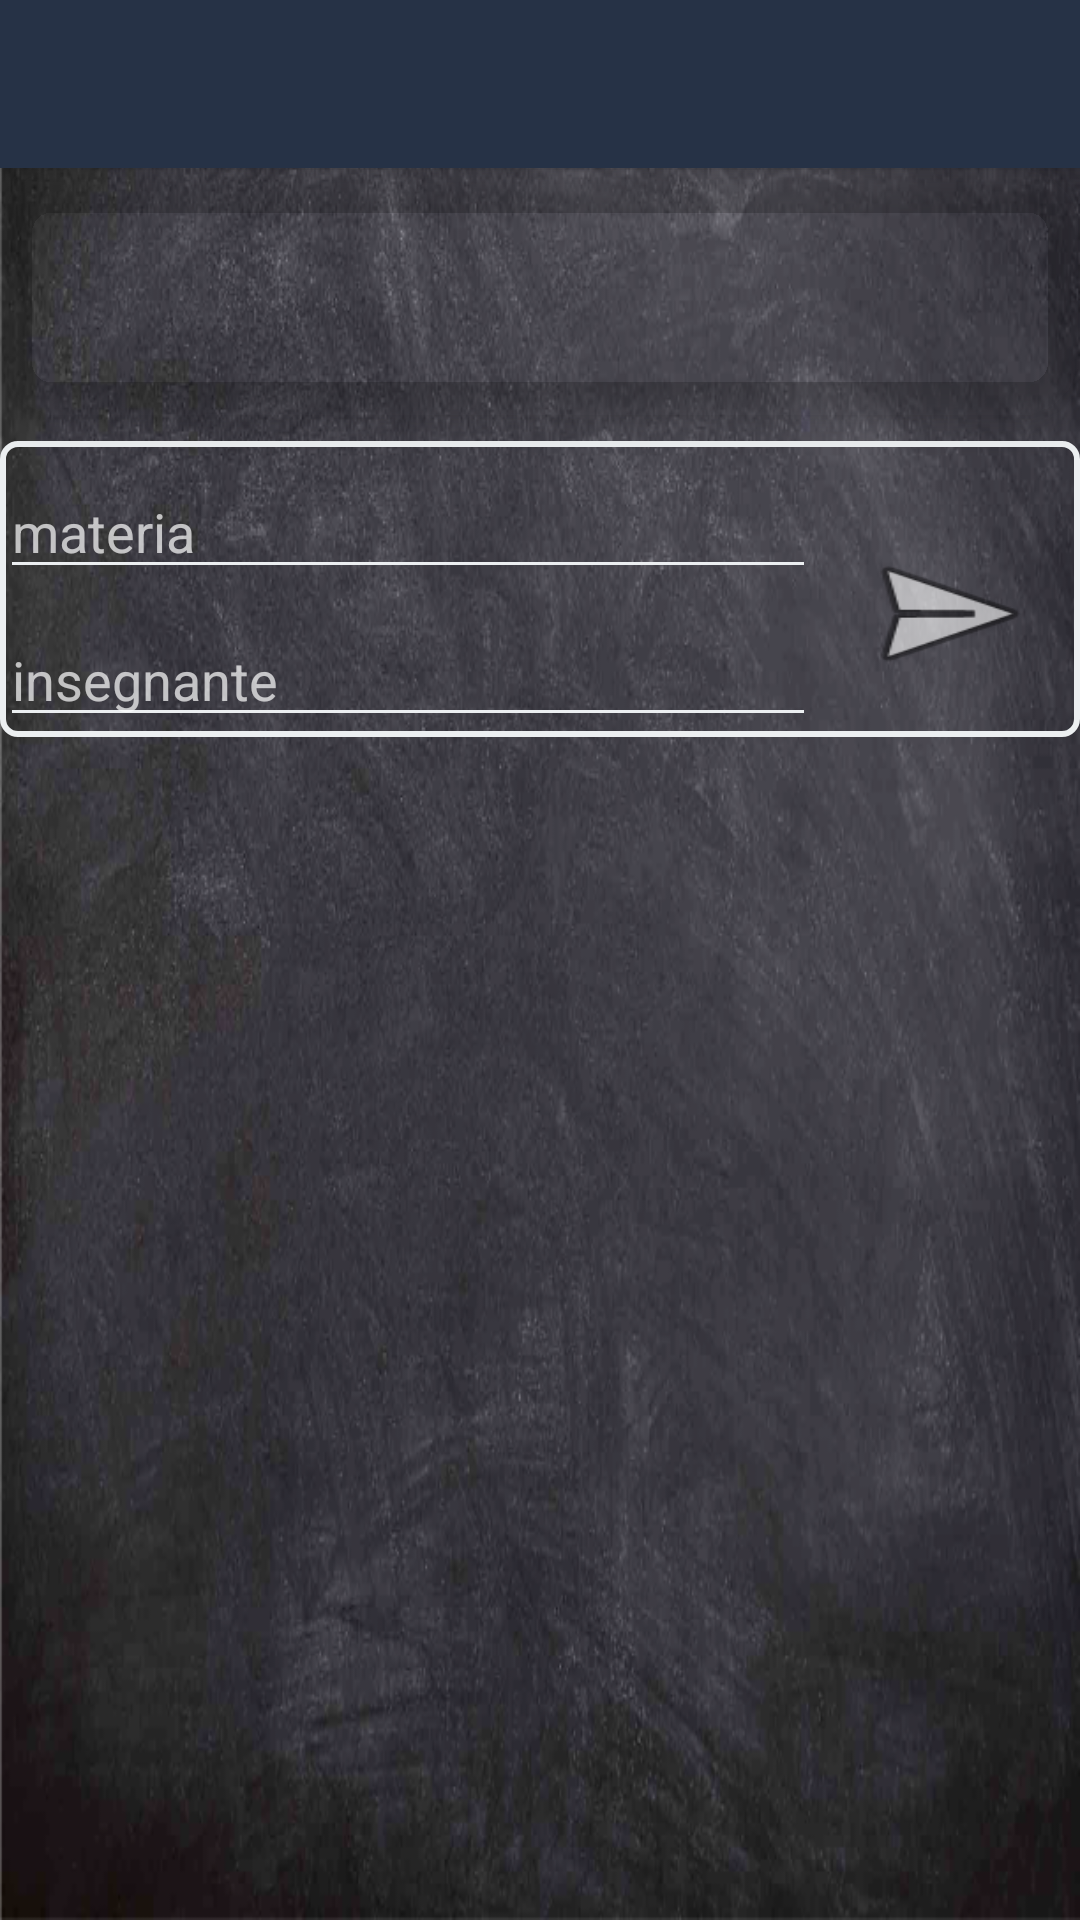

Icon bounding boxes for this 1080*1920 phone screenshot, format [x1,y1,x2,y2]:
send: [883,542,1056,688]
